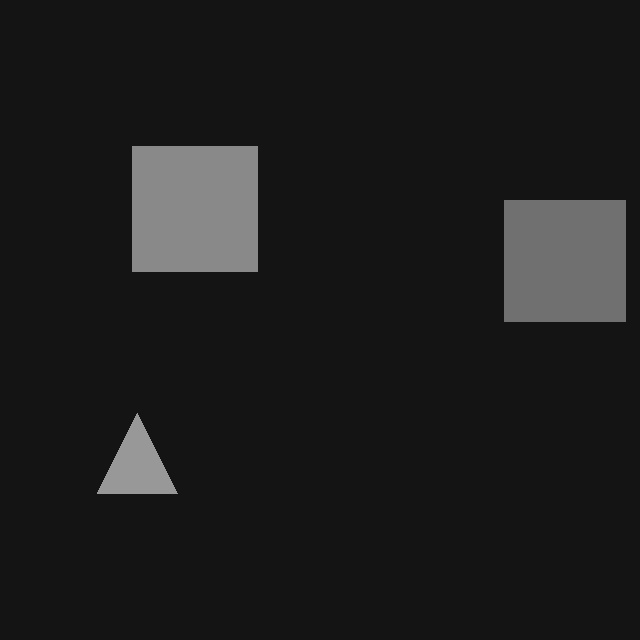square: (132, 146, 257, 271), (504, 200, 625, 321)
triangle: (97, 413, 177, 493)
